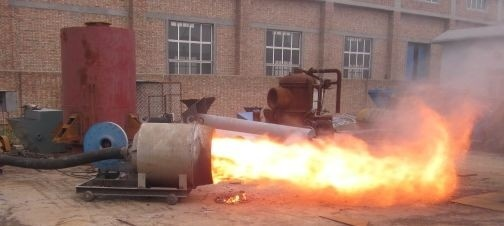fire: (201, 105, 464, 192)
